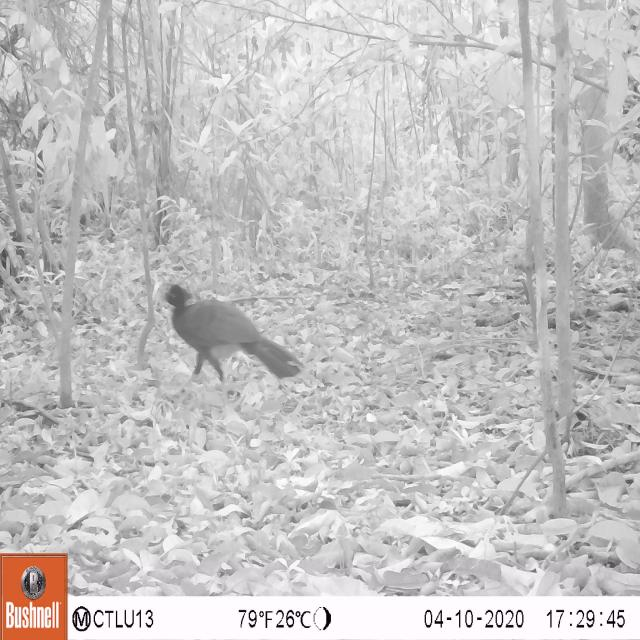Salvins Curassow: (145, 277, 306, 407)
